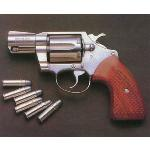Pistol: (6, 30, 146, 122)
